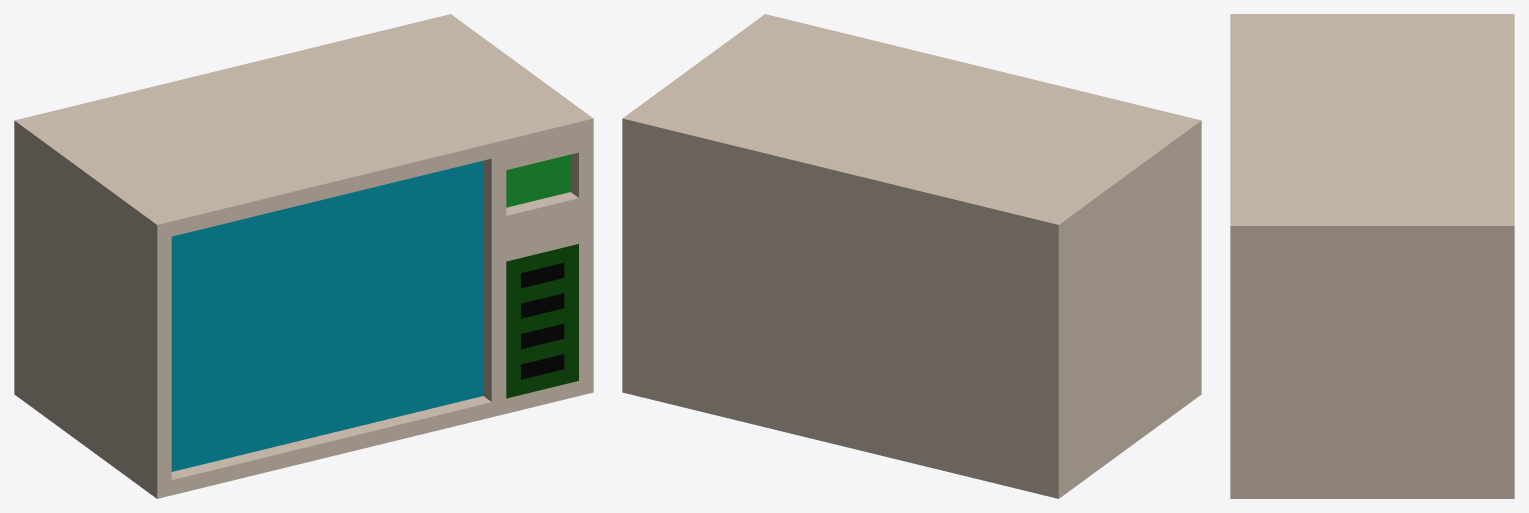
File: microwawe.obj
3 views of the same model, side by side, from view 1: azimuth 30°, elevation 25°; view 2: azimuth 150°, elevation 25°; view 3: azimuth 270°, elevation 25° (orthographic).
Bounding box in the file's own units: 3 × 1.8 × 1.7.
Materials: 1 (1 with a texture image).
